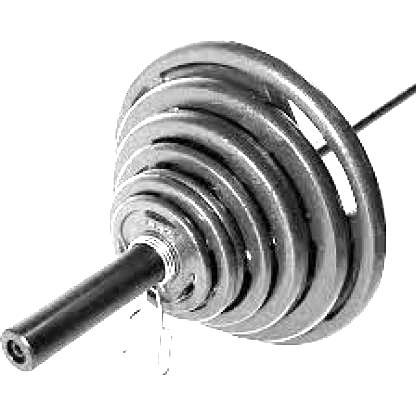Barbell: (1, 308, 53, 381)
